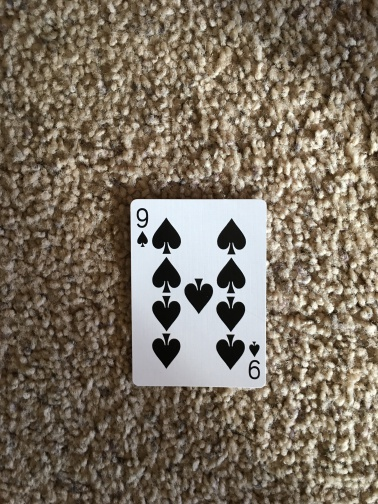nine: (129, 197, 268, 389)
